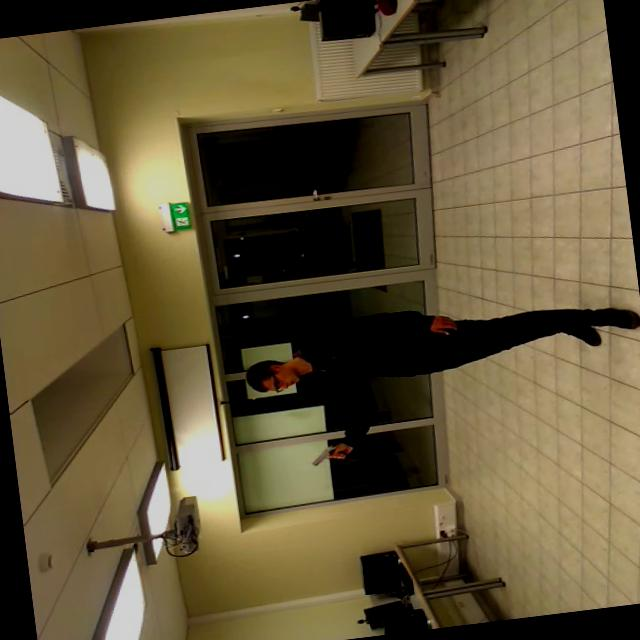handgun: (296, 432, 372, 474)
